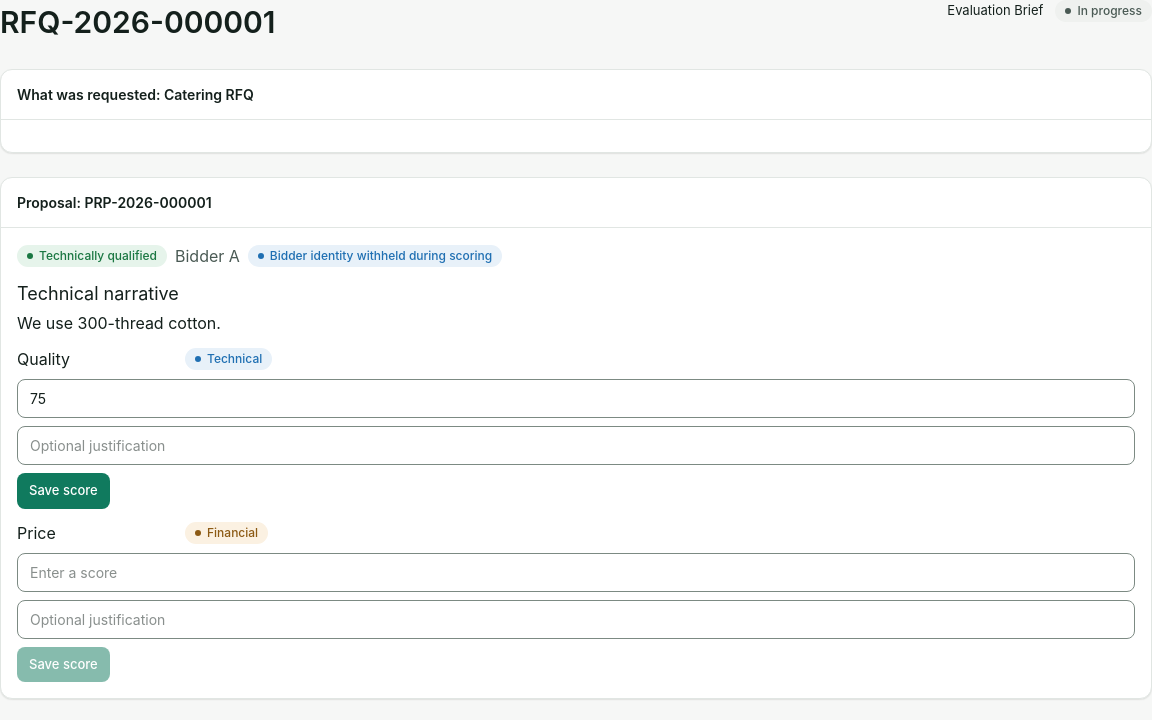
Test: MyEvaluationPage › enables the financial score input once qualified, and saving a score shows a success toast
Expected: the text "Technically qualified" is shown, x1=17 y1=245 x2=167 y2=267
In the number field named "Score: Price": (576, 572) x1=17 y1=552 x2=1135 y2=592, type "80"
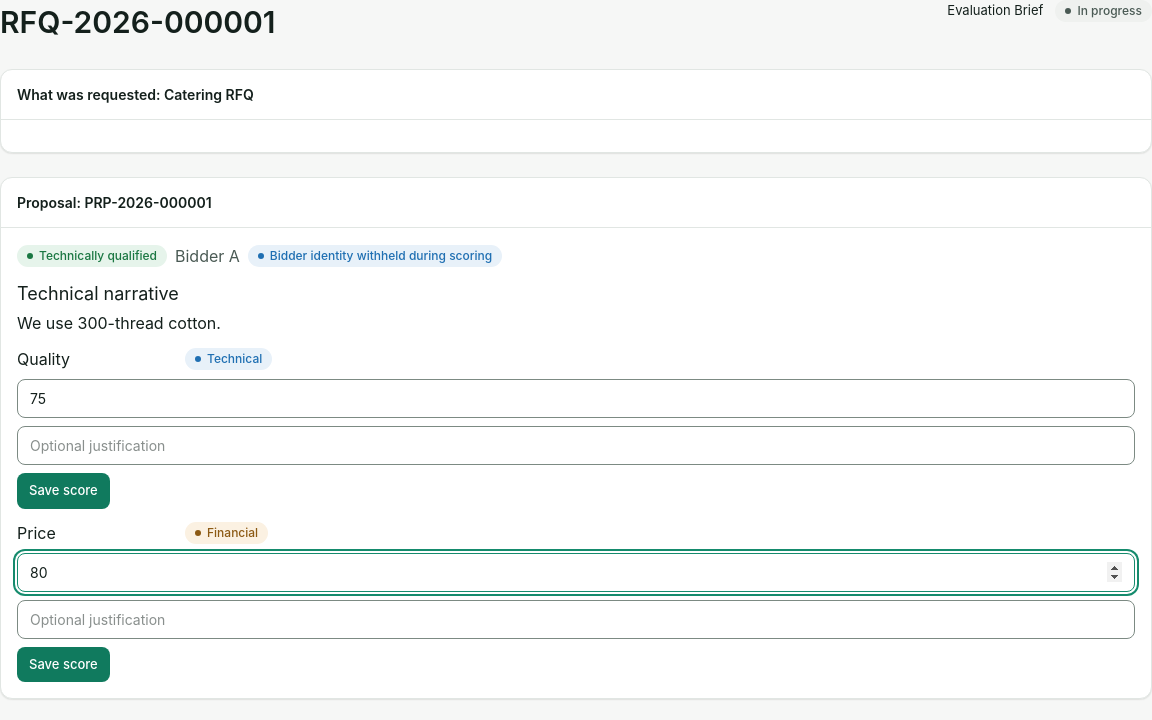
Click the button "Save score" below "Price": (63, 664) x1=17 y1=646 x2=110 y2=682
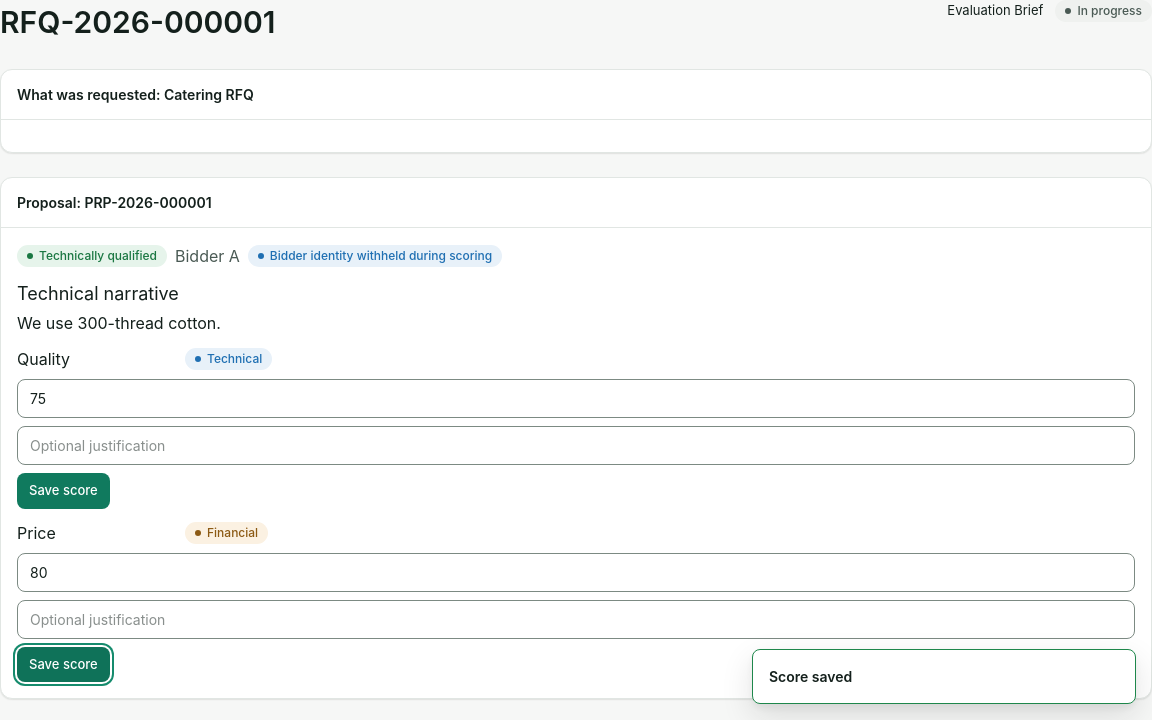
Result: the text "Score saved" is shown at x1=769 y1=668 x2=852 y2=685
